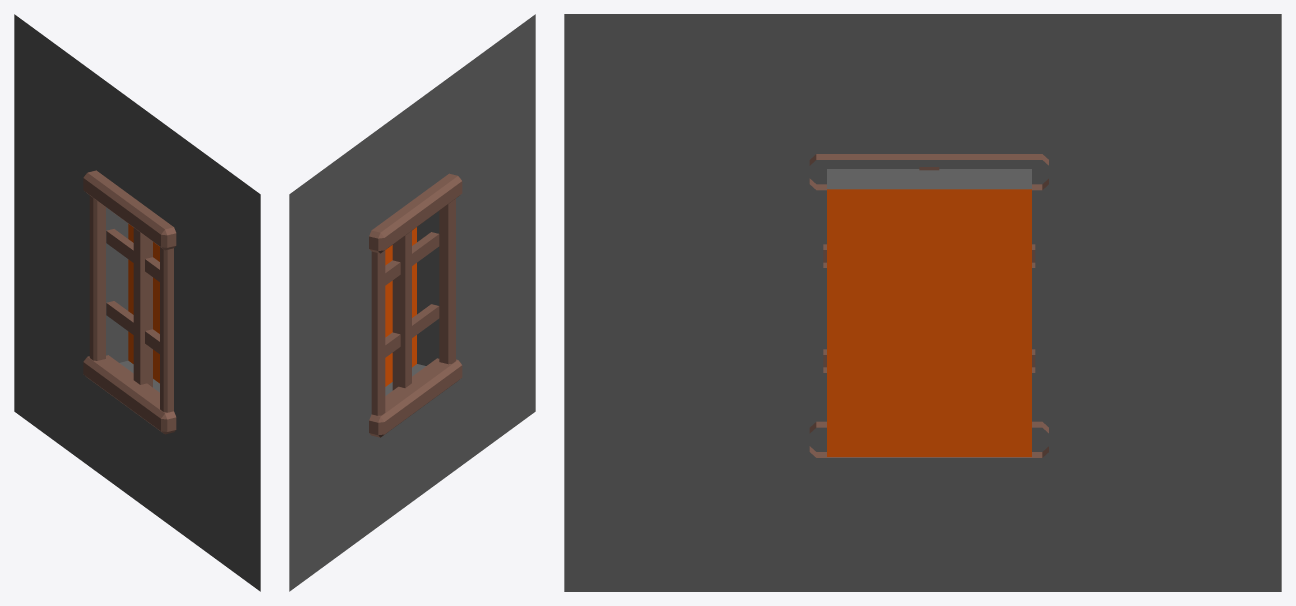
The model's file is StandardWindow03.fbx.
3 views of the same model, side by side, from view 1: azimuth 30°, elevation 25°; view 2: azimuth 150°, elevation 25°; view 3: azimuth 270°, elevation 25° (orthographic). The views are drawn at different scales.
Parts seen in each view (by area): view 1: standard_window_3_LOD0; view 2: standard_window_3_LOD0; view 3: standard_window_3_LOD0.
Part boxes in pixels (bbox=[...]): standard_window_3_LOD0: bbox=[14, 14, 260, 591]; standard_window_3_LOD0: bbox=[289, 14, 535, 591]; standard_window_3_LOD0: bbox=[564, 14, 1281, 591].
Size of what is drawn, in the model's own units: 43.81 by 400 by 450.
